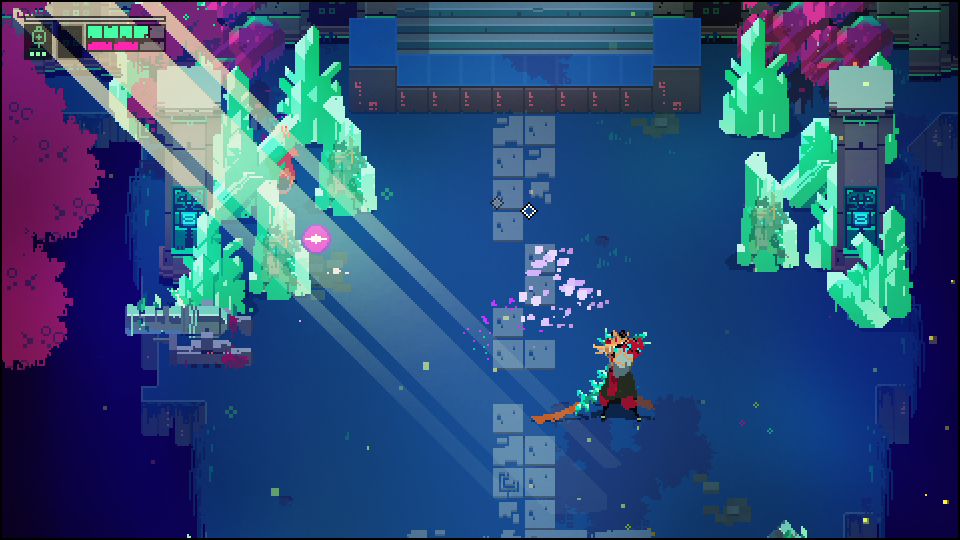hanged_man: (571, 327, 654, 424)
hanged_shot: (302, 221, 331, 258)
